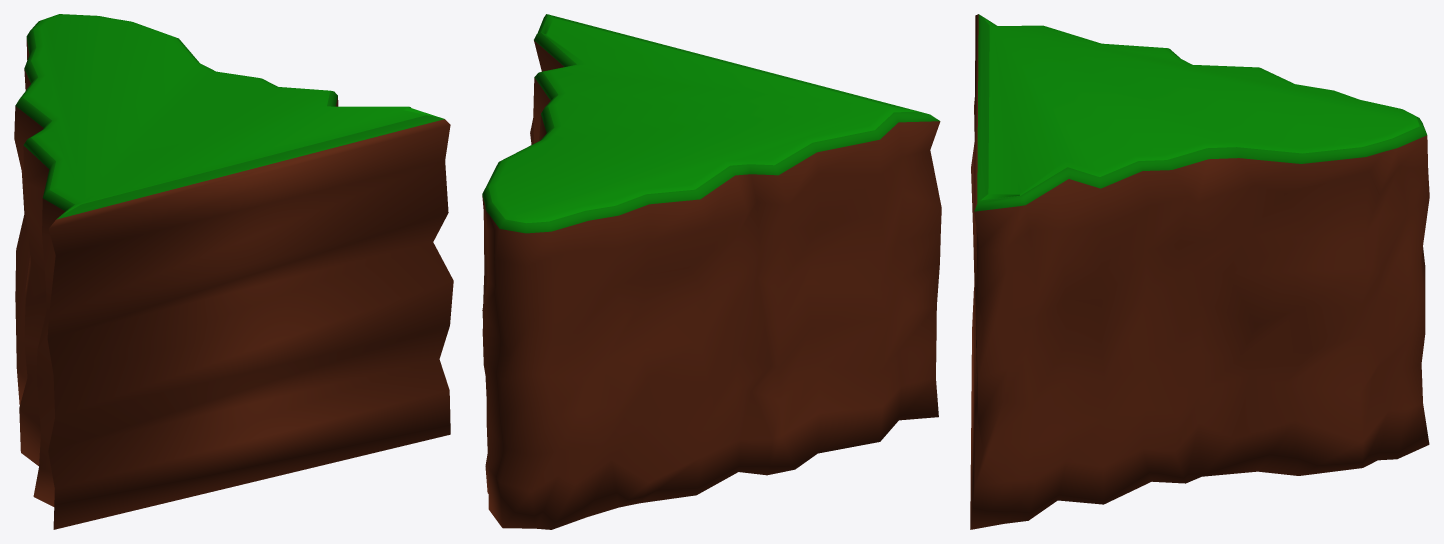
Rendered from cliff.fbx.
The picture shows the model from 3 angles, left to right: view 1: azimuth 30°, elevation 25°; view 2: azimuth 150°, elevation 25°; view 3: azimuth 270°, elevation 25°; orthographic projection. The views are drawn at different scales.
Parts seen in each view (by area): view 1: Plane; view 2: Plane; view 3: Plane.
Part boxes in pixels (x1=…): Plane: x1=14, y1=14, x2=453, y2=529; Plane: x1=482, y1=14, x2=941, y2=529; Plane: x1=970, y1=14, x2=1429, y2=529.
Bounding box in the file's own units: 198 × 149 × 187.
